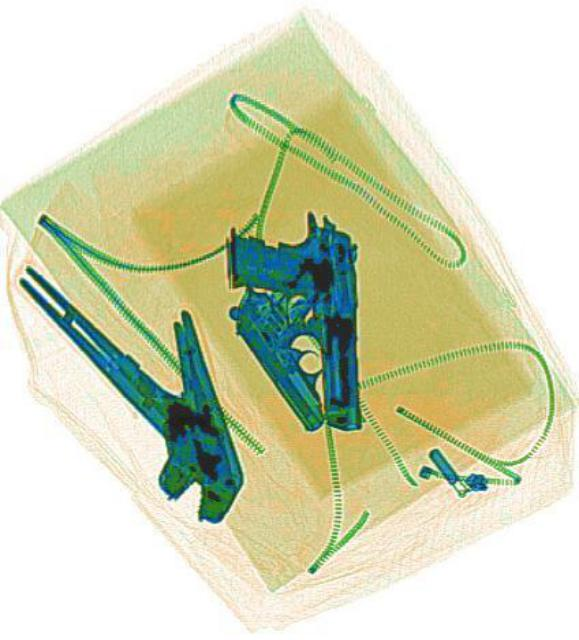Gun: (221, 258, 382, 434), (224, 218, 355, 430)
